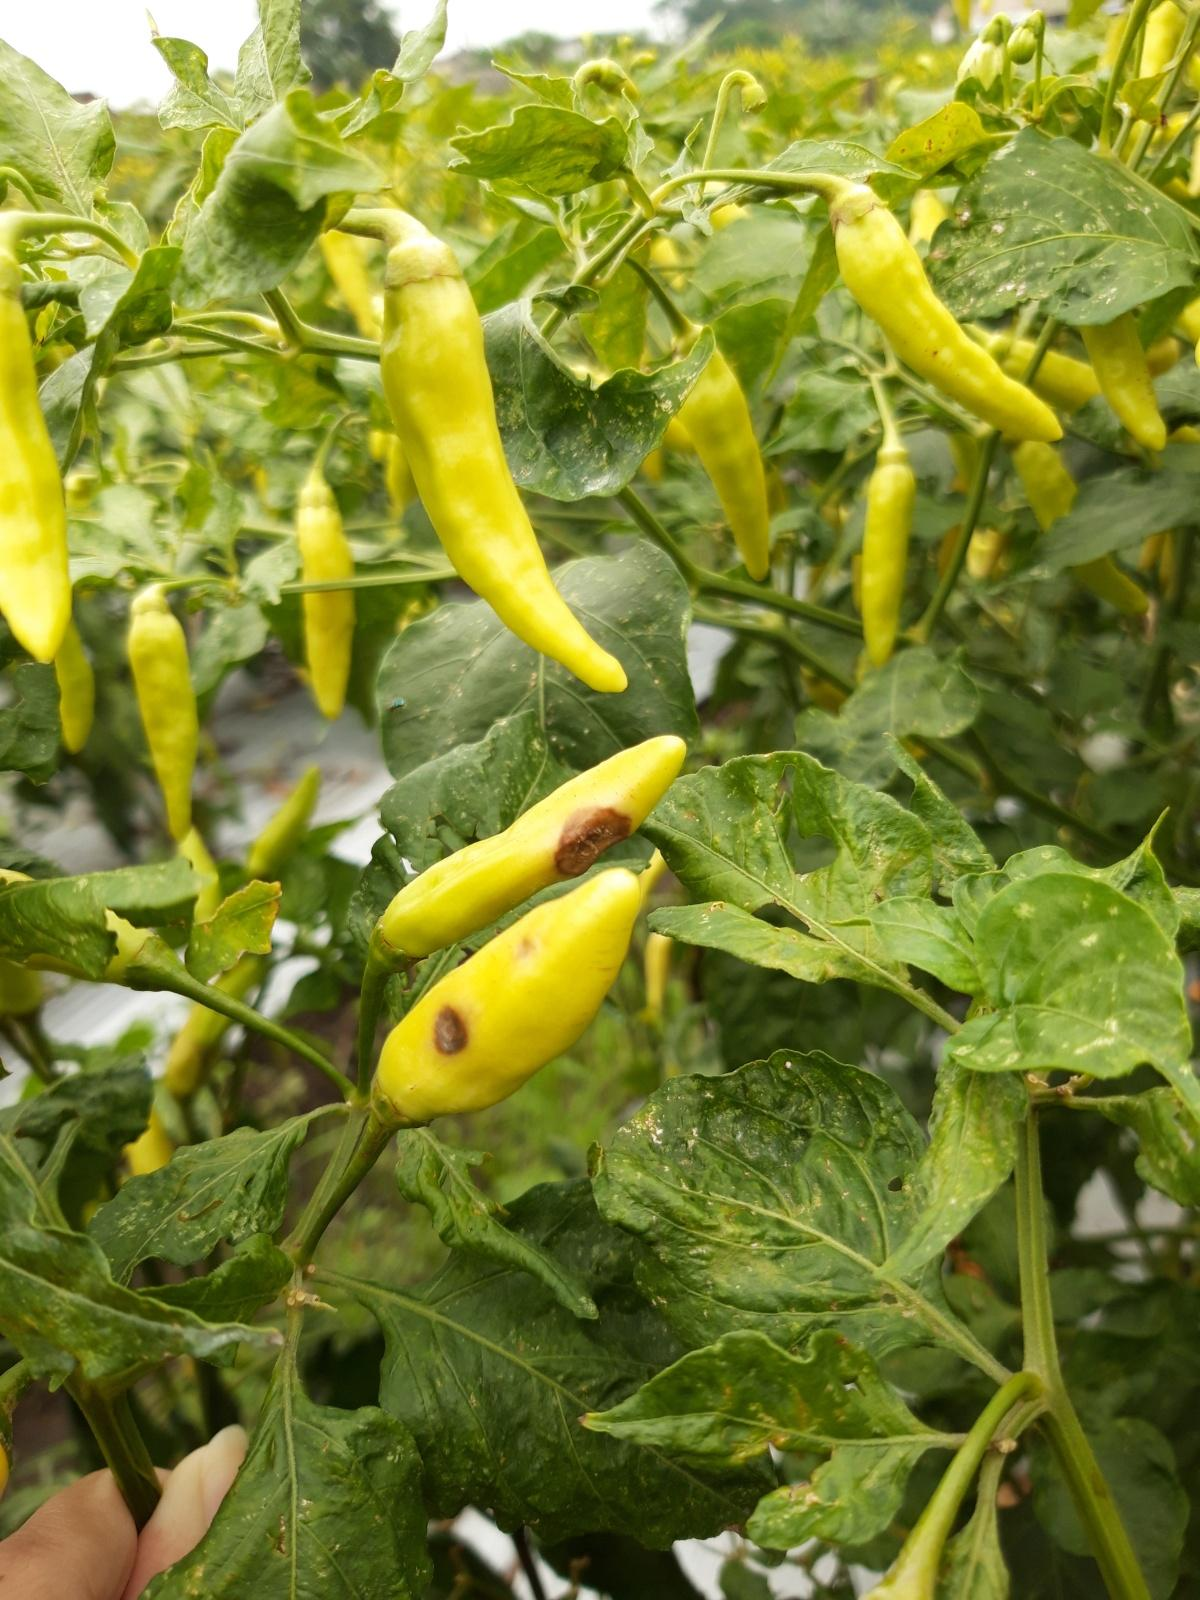cabai_normal: (381, 236, 629, 693), (831, 184, 1063, 442), (0, 252, 73, 665), (673, 324, 770, 580), (129, 592, 197, 842), (295, 490, 357, 721), (862, 443, 915, 664)
lalat_buah: (371, 734, 686, 974), (371, 869, 639, 1131)
